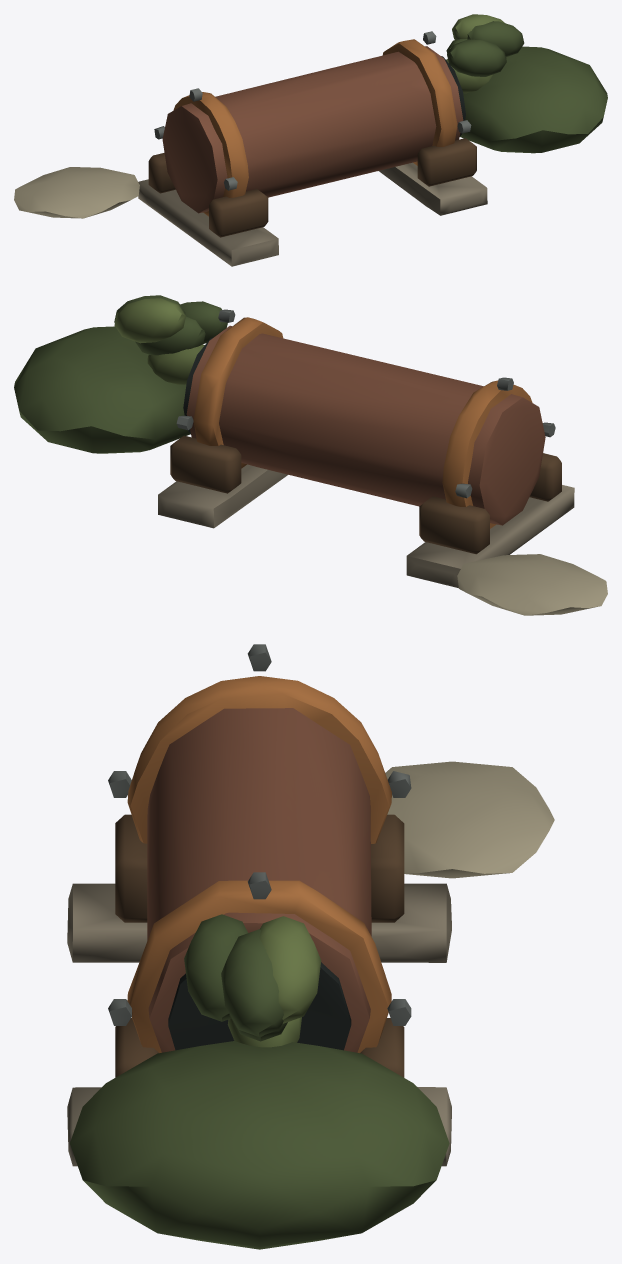
The model's file is pipe_section_c_lod1.glb.
3 renders of one model, top to bottom at view 1: azimuth 30°, elevation 25°; view 2: azimuth 150°, elevation 25°; view 3: azimuth 270°, elevation 25°, orthographic. The views are drawn at different scales.
Parts seen in each view (by area): view 1: Surface.001; view 2: Surface.001; view 3: Surface.001.
Boxes of the visible parts, left/top/right/bottom form: Surface.001: left=14, top=14, right=607, bottom=266; Surface.001: left=14, top=295, right=607, bottom=615; Surface.001: left=67, top=644, right=554, bottom=1249.
Bounding box in the file's own units: 5.06 × 1.3 × 2.02.
